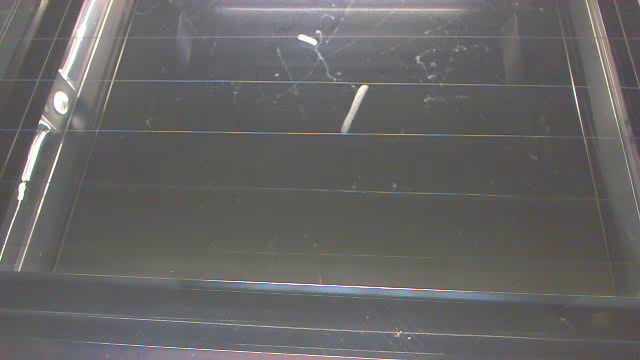Alfa: (335, 75, 369, 135), (290, 27, 326, 50)
